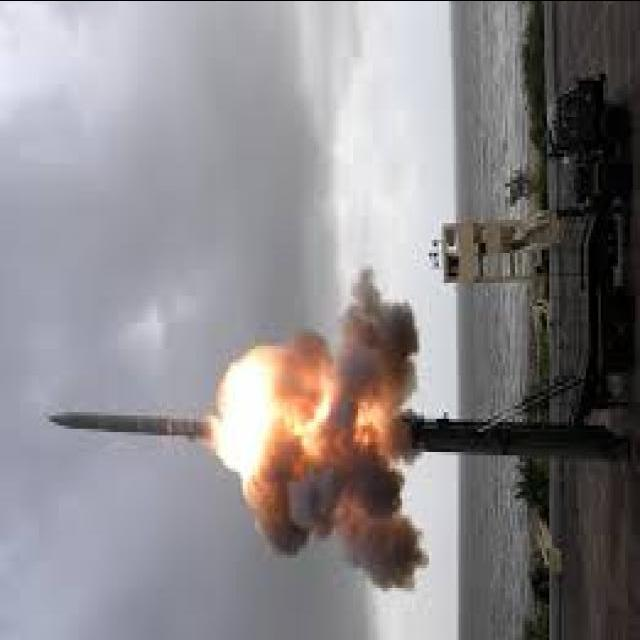missile: (30, 393, 228, 447)
